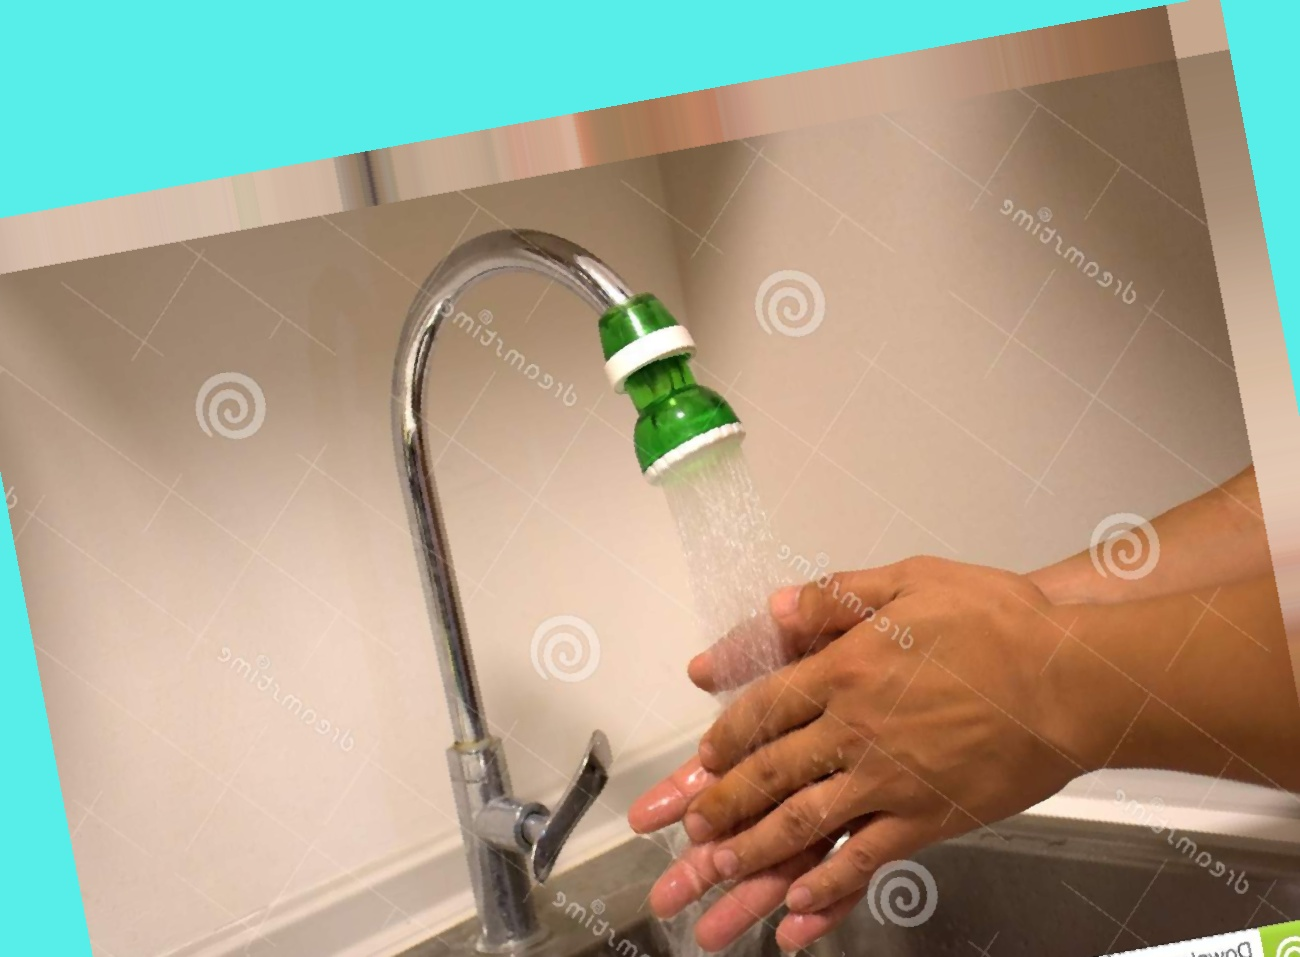washing hand: (328, 156, 1056, 956)
